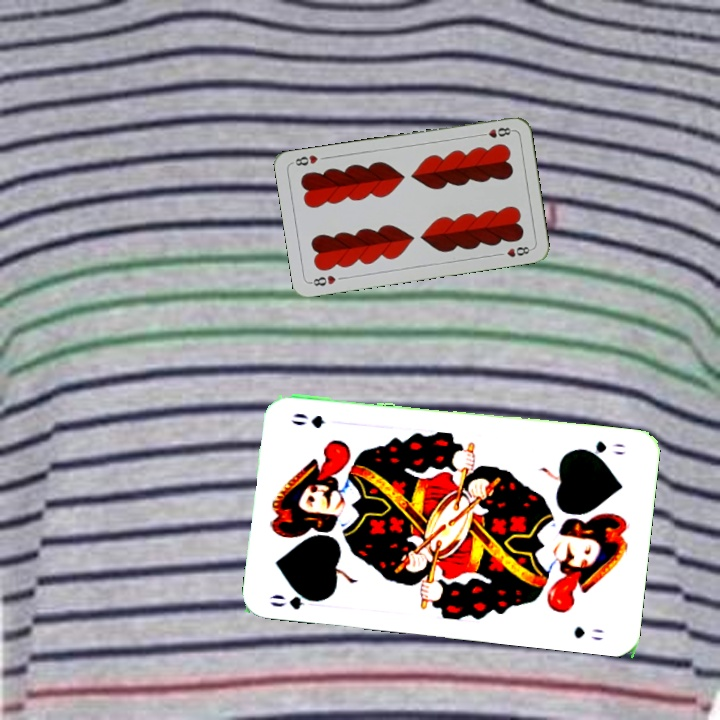GO: (266, 586, 326, 612), (574, 437, 627, 459)
H8: (475, 123, 515, 140), (307, 271, 338, 289)
